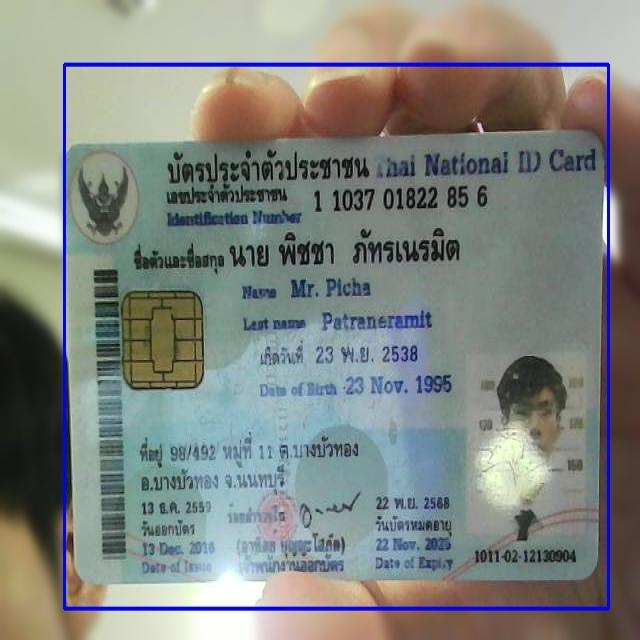Address_th: (135, 424, 368, 502)
Date_of_Birth: (343, 368, 459, 402)
Date_of_Expiry: (372, 532, 461, 558)
Date_of_Issue: (140, 538, 224, 561)
First_Name: (286, 272, 374, 303)
ID_Number: (310, 183, 498, 215)
Image: (466, 352, 586, 540)
Last_Name: (321, 306, 438, 334)
Thai_Name: (224, 224, 470, 271)
